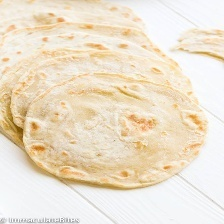roti: (0, 0, 210, 191)
